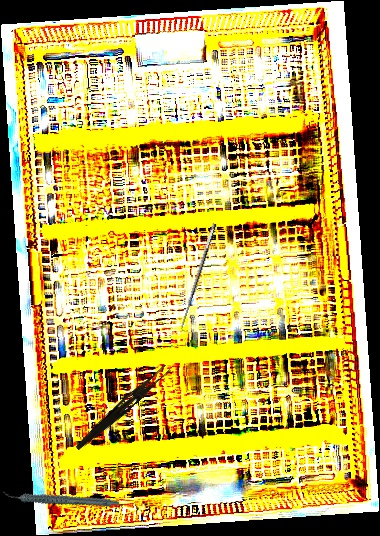Dressing Forceps: (74, 360, 171, 456)
Handpiece: (2, 466, 120, 530)
Hook Surgical: (177, 222, 225, 334)
